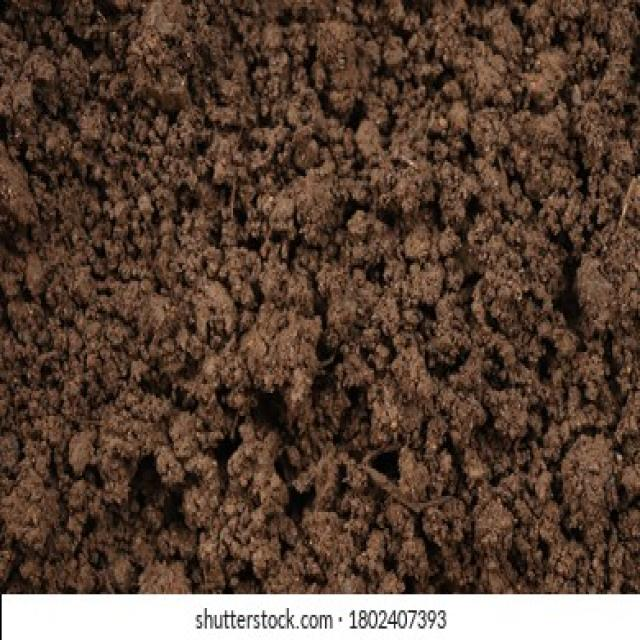Clay Soil: (54, 48, 608, 548)
